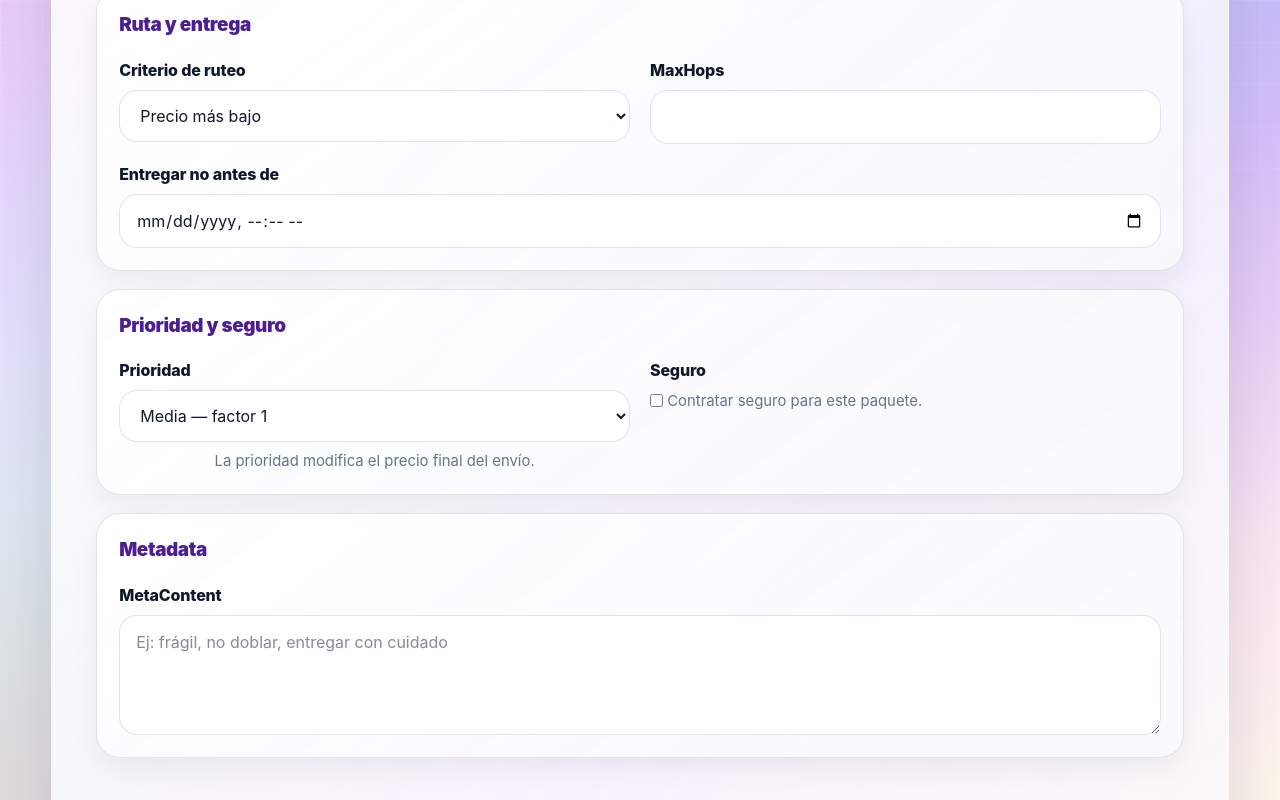
Test: CreateShipmentPage › muestra la prima del 5% cuando el seguro está activo
This screenshot has width=1280, height=800.
(page scrolled)
Click the checkbox labelled "Seguro". click: (656, 401)
box: [650, 394, 663, 407]
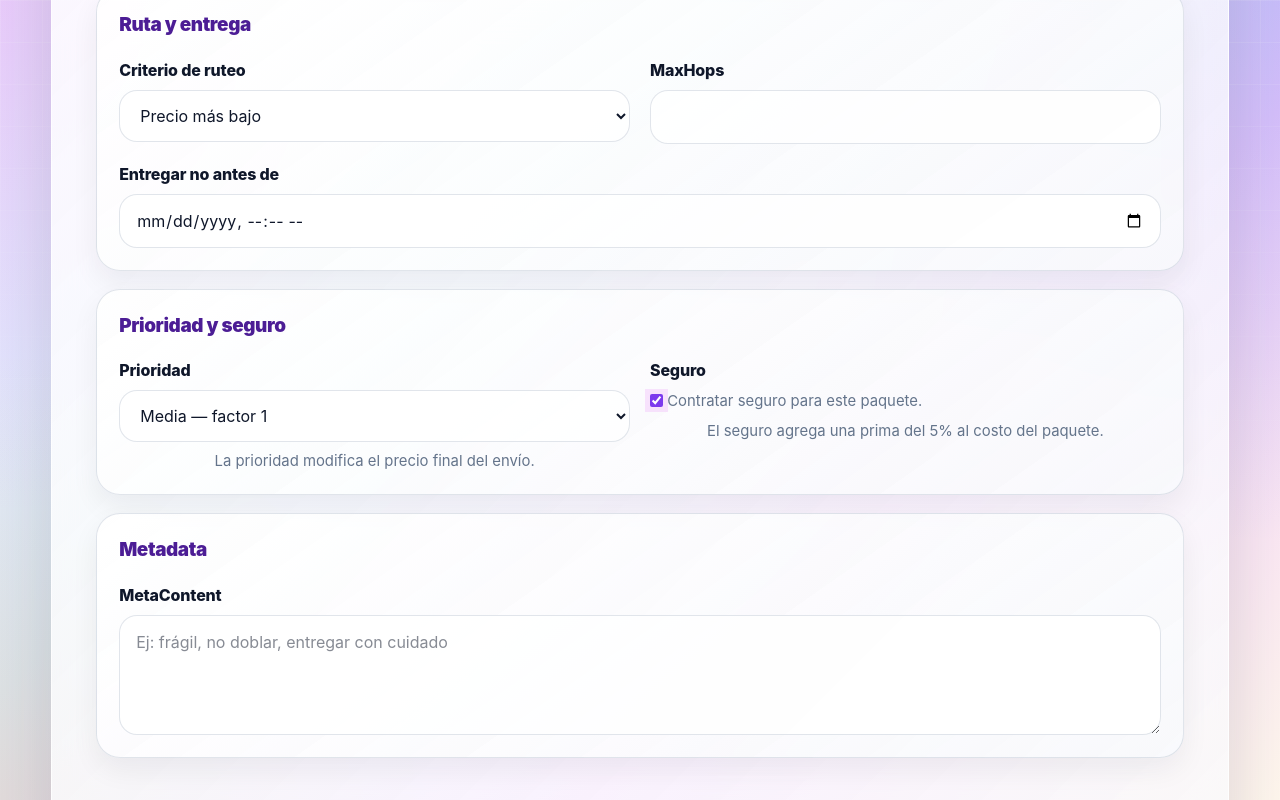
Expected: the text "El seguro agrega una prima del 5% al costo del paquete." is shown, [707, 422, 1104, 440]
